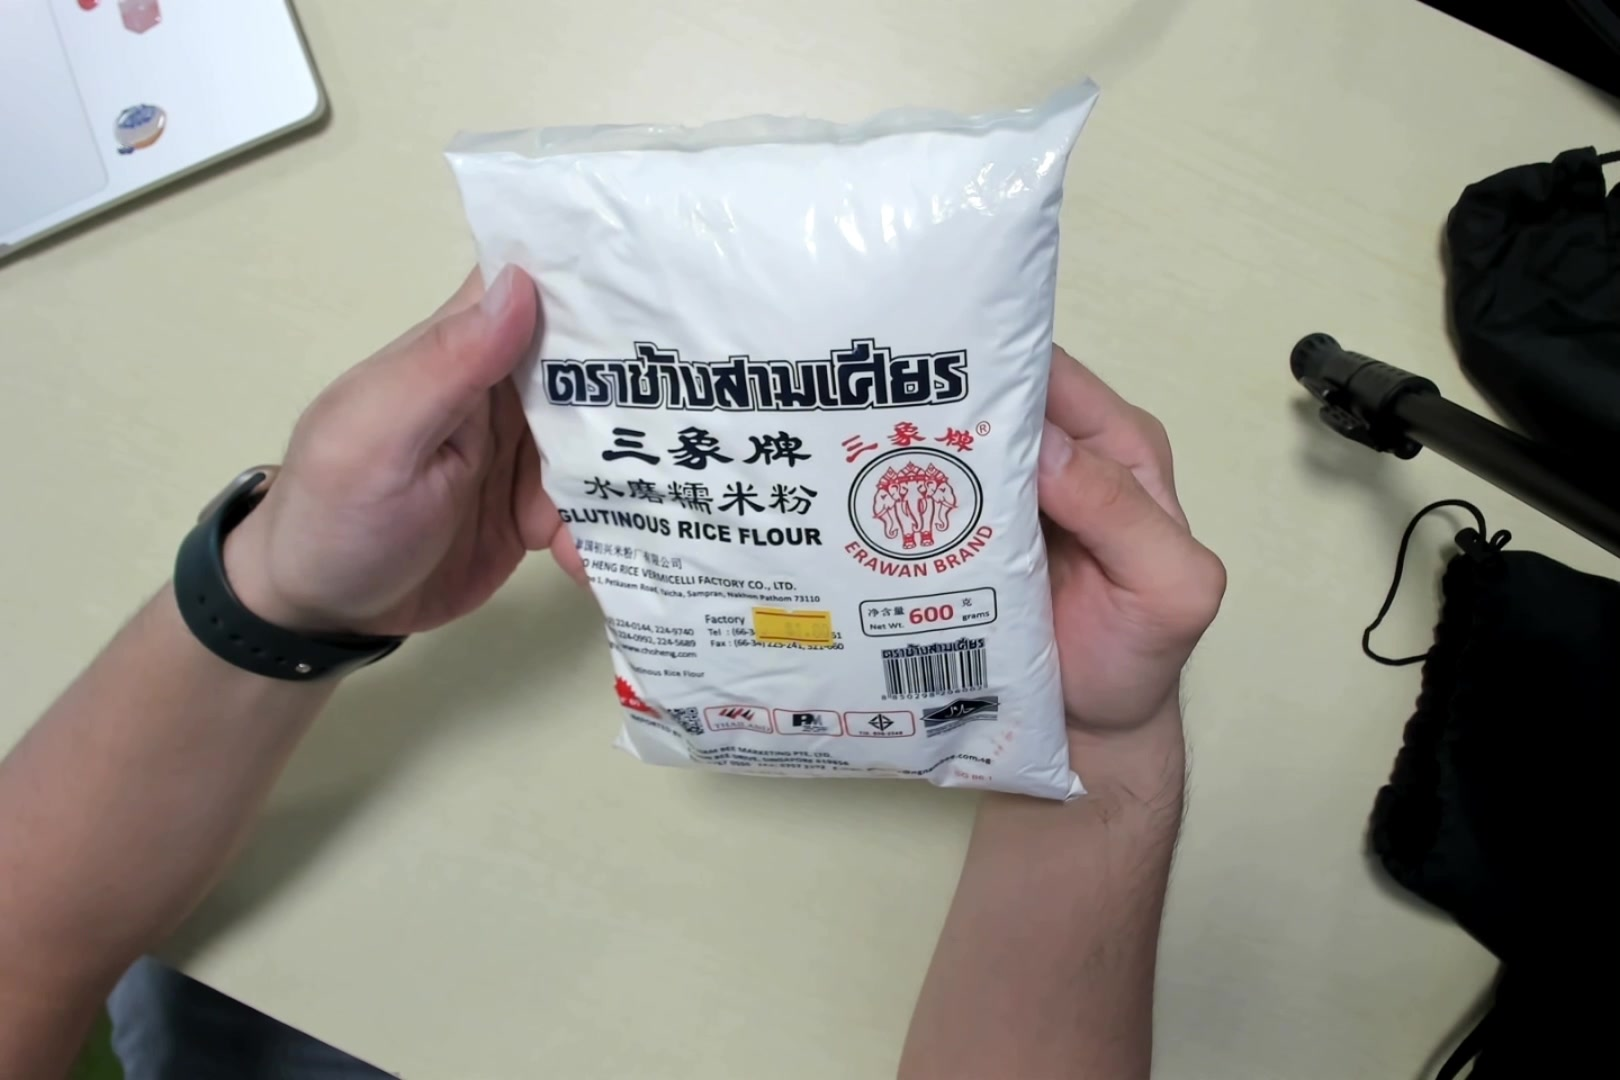OtherBakingNeeds_600-699g_Halal_NonHealthy: (440, 86, 1082, 804)
